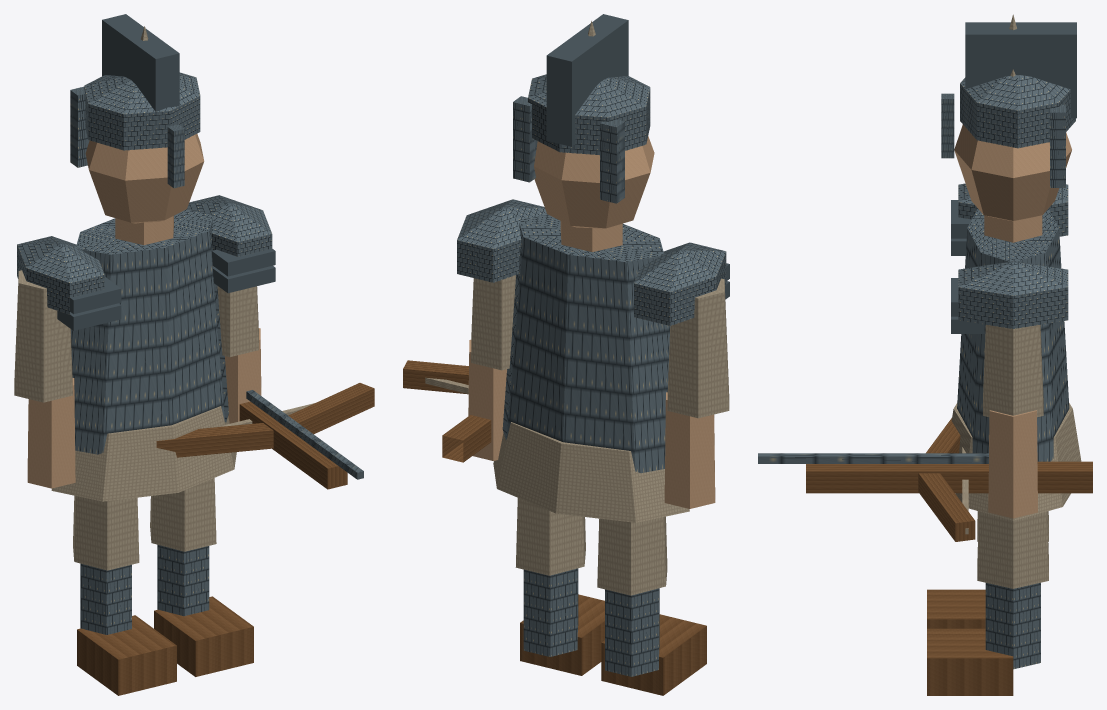
The model's file is unit-CROSSBOW-lod1.glb.
3 renders of one model, left to right at view 1: azimuth 30°, elevation 25°; view 2: azimuth 150°, elevation 25°; view 3: azimuth 270°, elevation 25°, orthographic. The views are drawn at different scales.
Bounding box in the file's own units: 0.2499 × 0.448 × 0.21.
Materials: 1 (1 with a texture image).
